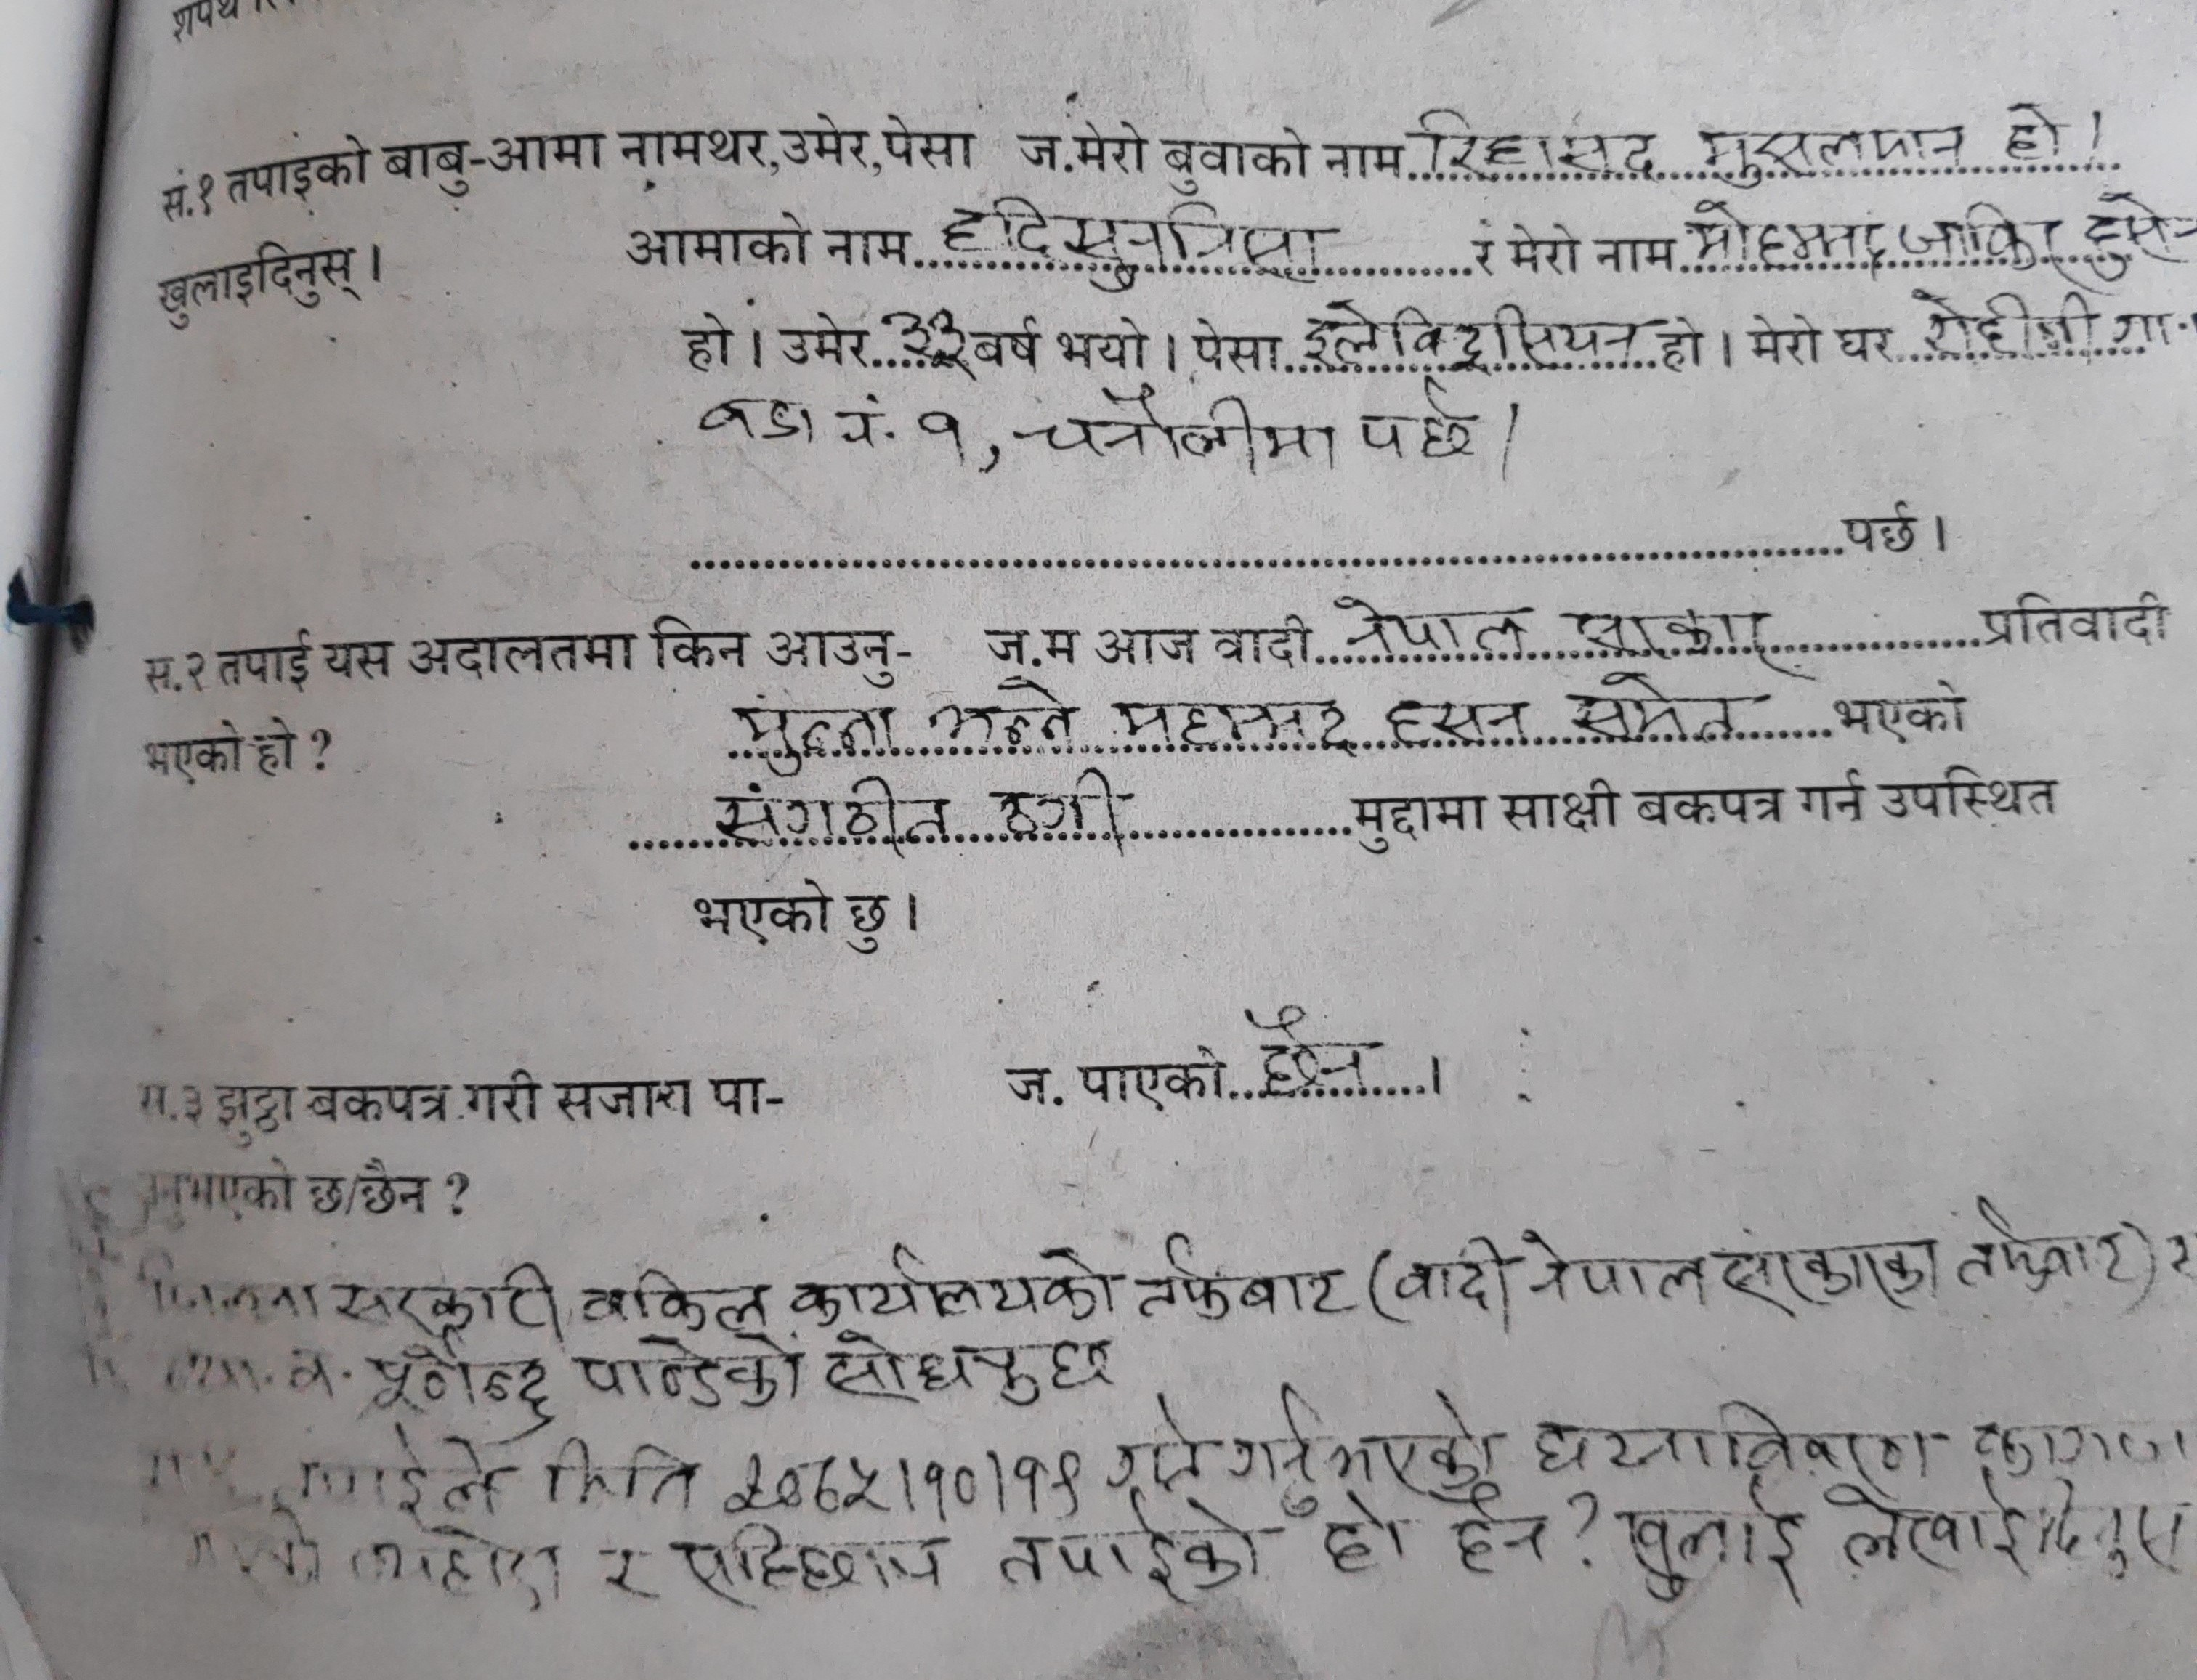text: (1821, 1477, 2197, 1590), (934, 189, 1339, 293), (1016, 379, 1338, 480), (787, 1237, 1124, 1329), (1616, 1463, 1812, 1609), (1285, 300, 1652, 378), (674, 1519, 942, 1622), (1001, 1507, 1272, 1606), (812, 1329, 1110, 1414), (704, 764, 951, 856), (1406, 97, 1668, 184), (1124, 1232, 1357, 1327), (1682, 189, 1892, 288), (1694, 118, 1964, 194), (321, 1256, 559, 1339), (1719, 1225, 1945, 1311), (1099, 683, 1353, 759), (1955, 1184, 2123, 1299), (566, 1332, 812, 1410), (1567, 660, 1754, 752), (1897, 281, 2107, 362), (1338, 584, 1533, 671), (1563, 589, 1777, 665), (570, 1260, 771, 1338), (1525, 1232, 1713, 1311), (1899, 194, 2072, 281), (928, 672, 1089, 759), (1431, 1486, 1556, 1594), (1241, 995, 1378, 1092), (739, 692, 902, 773), (2079, 178, 2197, 286), (1350, 378, 1479, 471), (990, 764, 1128, 851), (1375, 690, 1539, 762), (1385, 1237, 1519, 1318), (879, 288, 976, 385), (1316, 1489, 1412, 1581), (695, 381, 821, 450), (1992, 95, 2073, 168), (904, 401, 974, 466)
